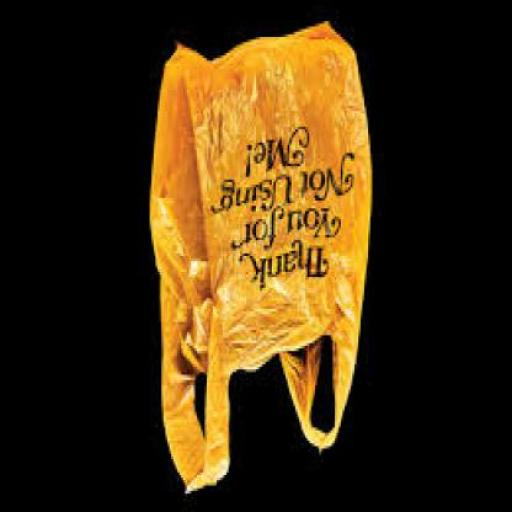plastic: (152, 21, 374, 496)
